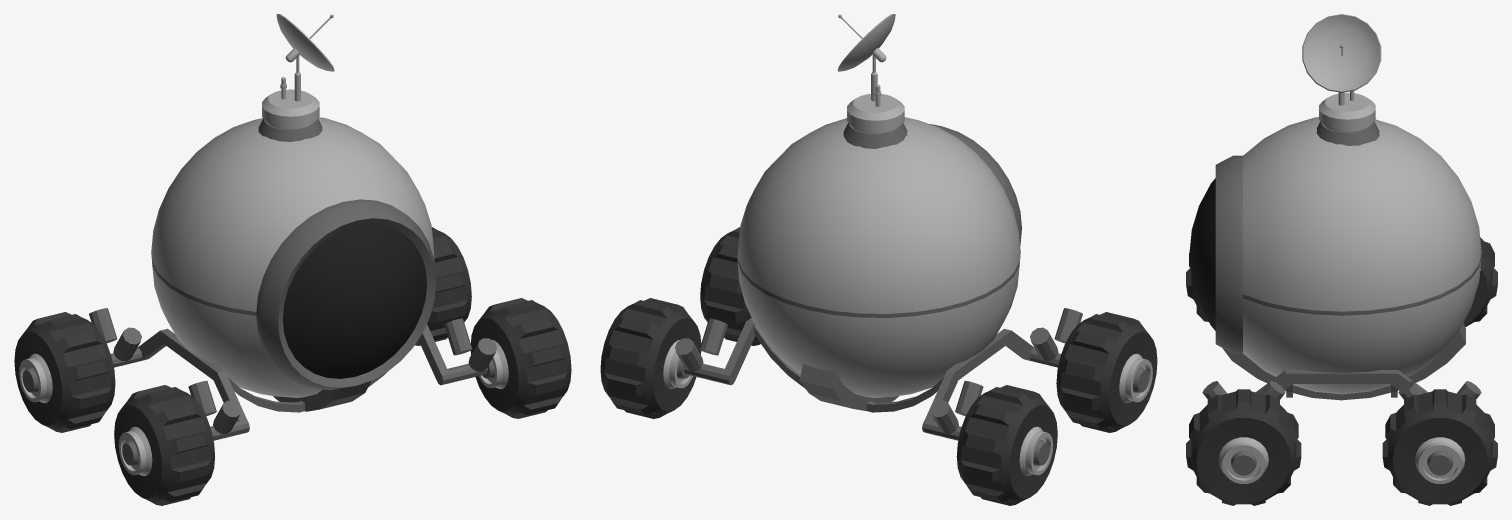
Rendered from Enemy1.obj.
3 views of the same model, side by side, from view 1: azimuth 30°, elevation 25°; view 2: azimuth 150°, elevation 25°; view 3: azimuth 270°, elevation 25° (orthographic).
Parts seen in each view (by area): view 1: Rover_Round; view 2: Rover_Round; view 3: Rover_Round.
Boxes of the visible parts, box(x1,y1,x2,y2) form: Rover_Round: box(14, 14, 571, 505); Rover_Round: box(600, 14, 1157, 505); Rover_Round: box(1186, 14, 1497, 505).
Bounding box in the file's own units: 5.79 × 5.17 × 3.69.
